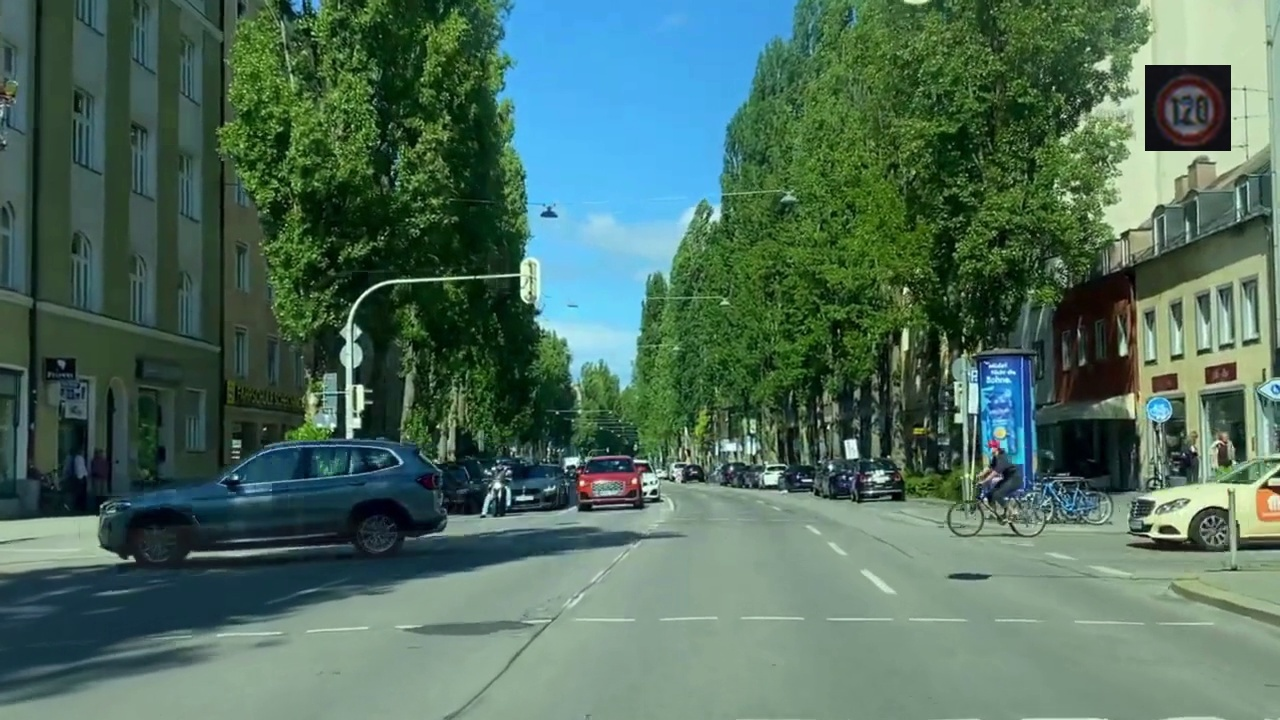Speed 120: (1145, 65, 1231, 151)
